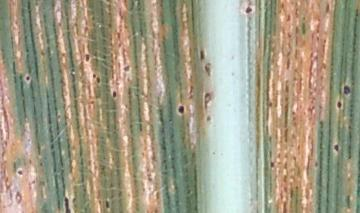tarspot: (203, 89, 215, 113), (63, 195, 73, 213), (13, 190, 23, 205), (203, 61, 211, 77), (342, 84, 352, 96), (120, 64, 132, 74), (187, 84, 194, 99), (243, 5, 254, 14), (177, 104, 185, 116), (198, 47, 205, 60), (103, 199, 111, 210), (15, 168, 24, 177), (324, 2, 331, 13), (333, 143, 340, 153), (84, 52, 90, 63), (204, 114, 212, 122), (111, 89, 118, 98), (95, 75, 102, 83), (269, 160, 275, 169), (91, 71, 97, 79), (38, 160, 44, 168), (336, 100, 341, 108), (28, 157, 32, 166), (25, 75, 30, 82)
